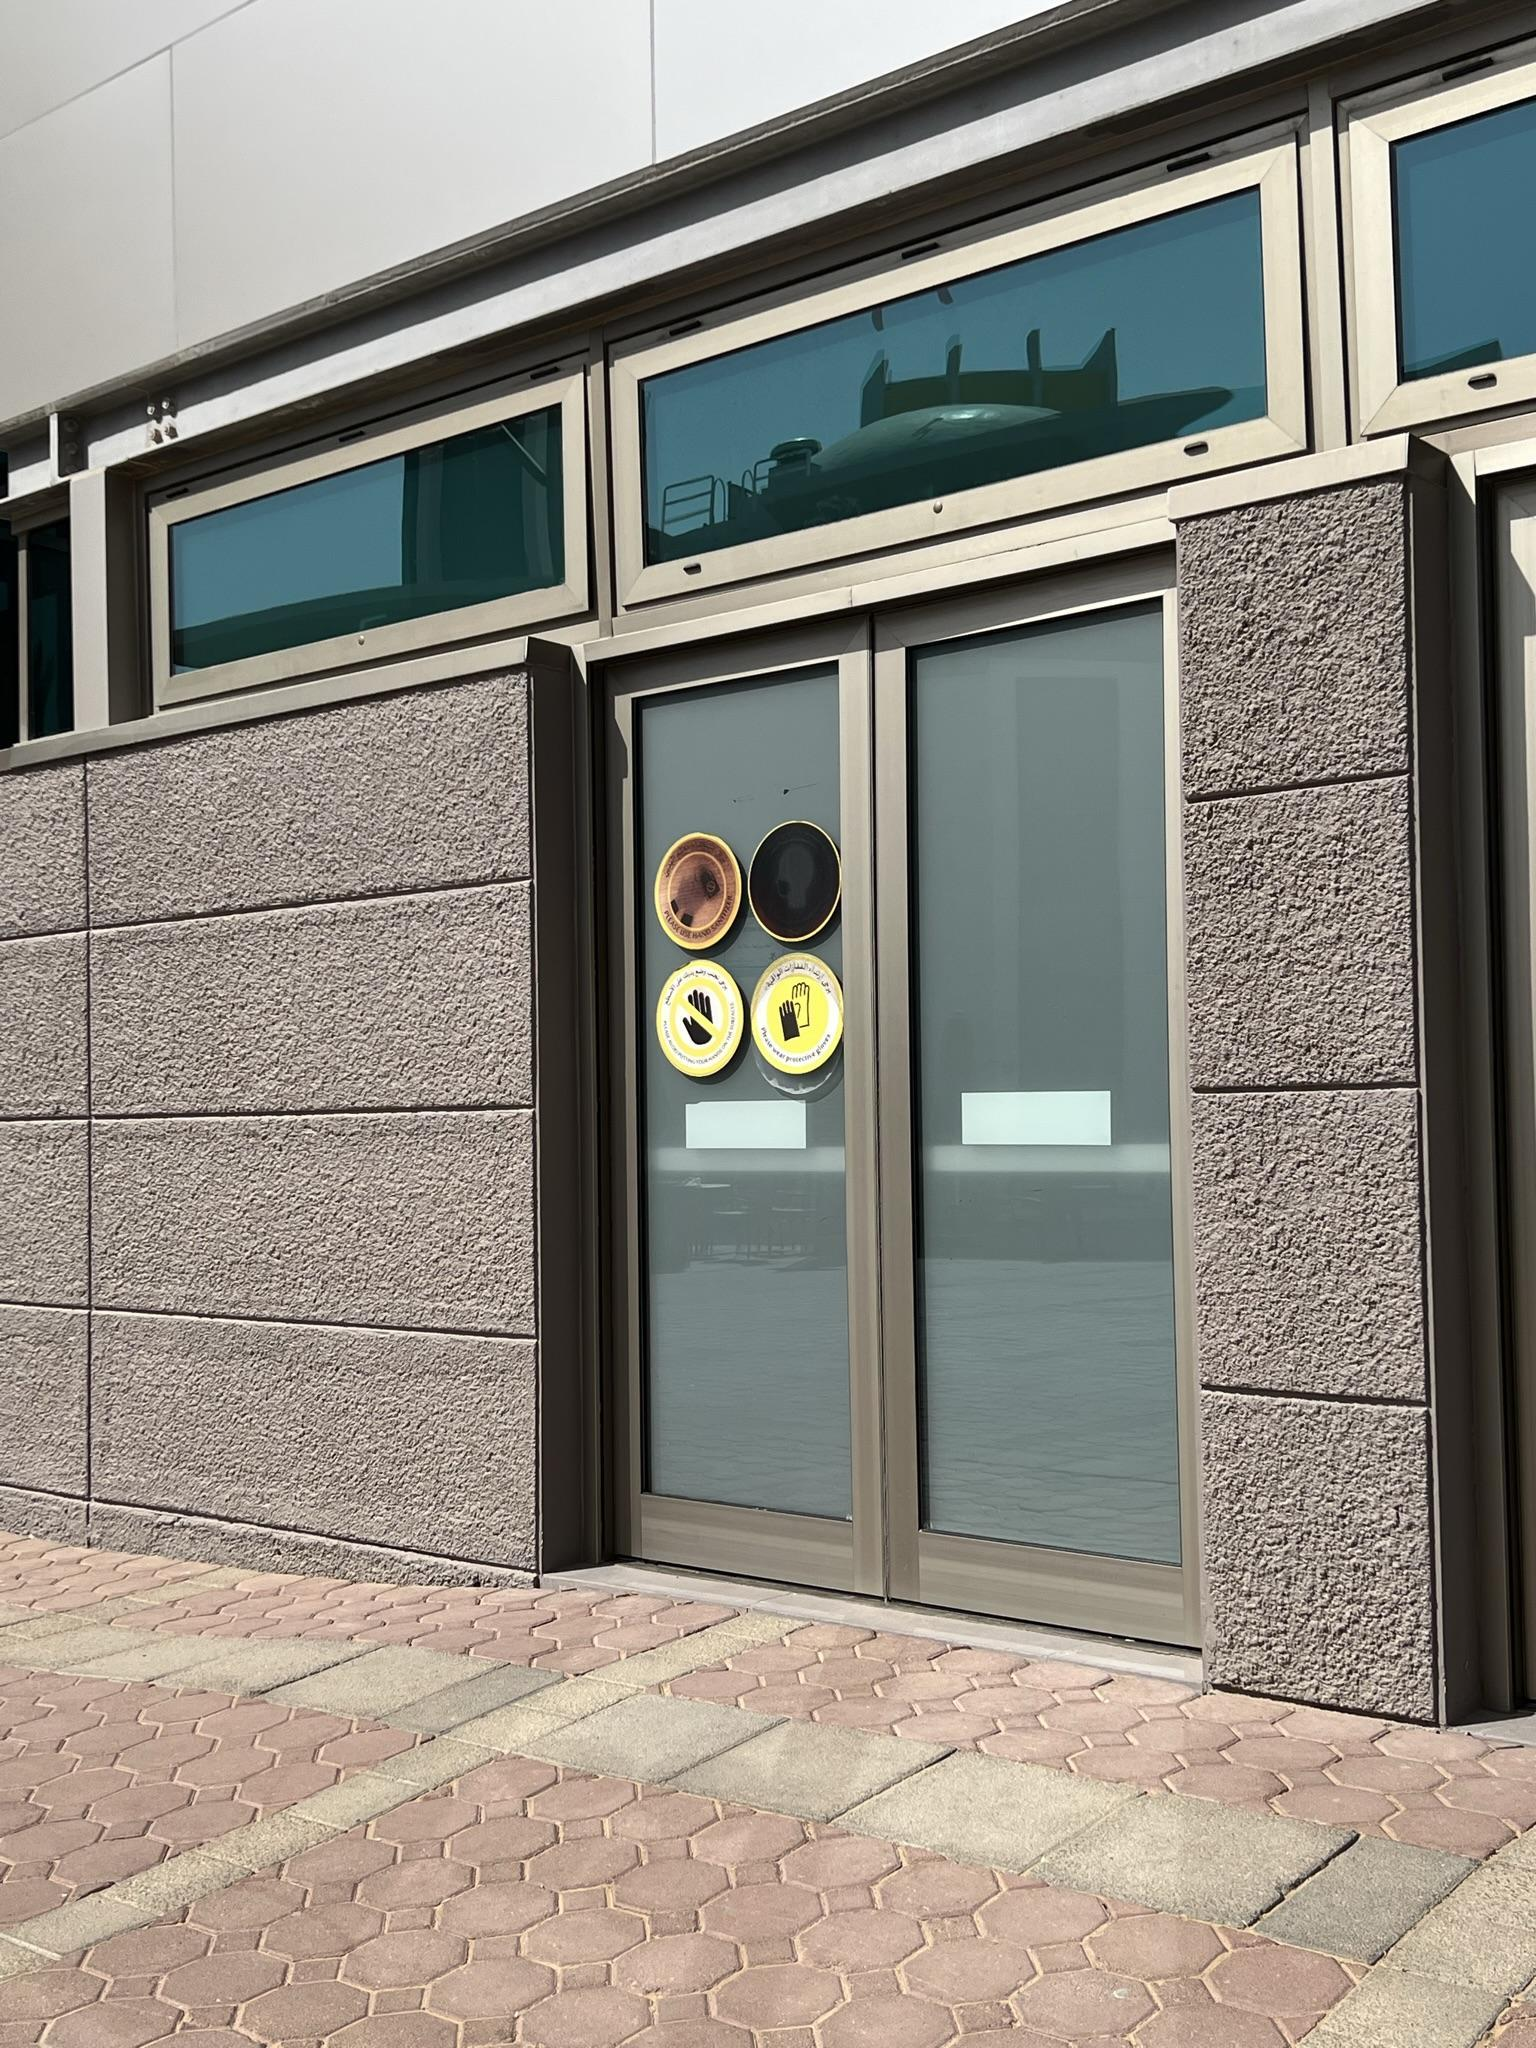door: (897, 622, 1208, 1622), (623, 661, 889, 1582)
